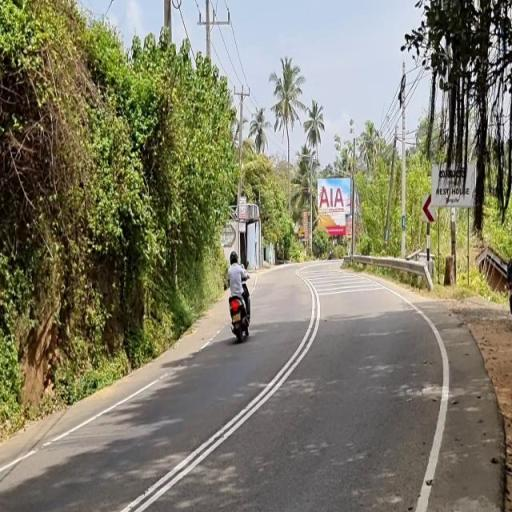double_white_line: (117, 280, 322, 511)
